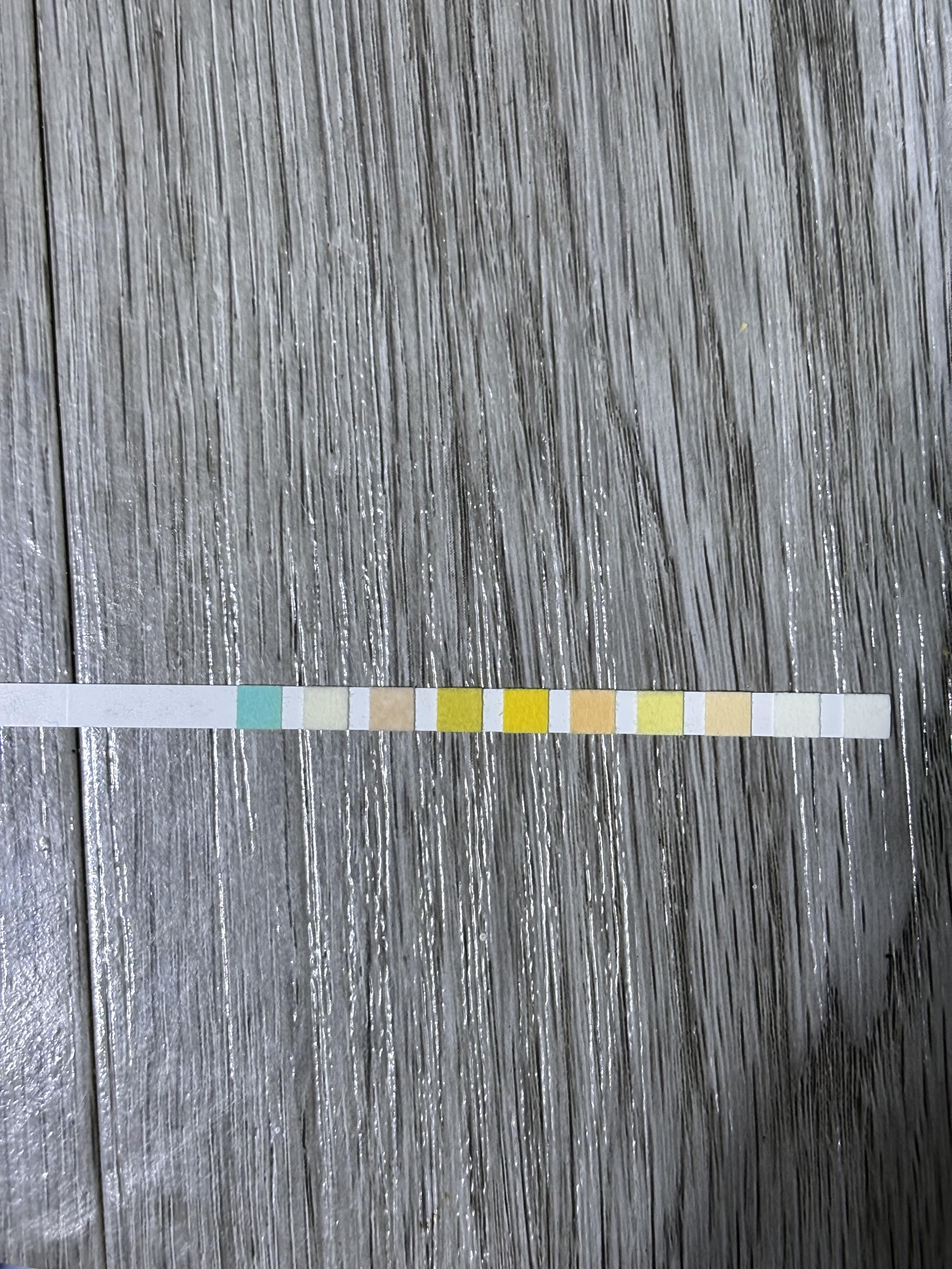Bilirubin: (305, 687, 347, 729)
Blood: (505, 689, 547, 733)
Glucose: (238, 686, 281, 729)
Ketone: (370, 688, 413, 730)
Leukocytes: (845, 695, 889, 738)
Nitrite: (775, 694, 818, 737)
Protein: (638, 691, 683, 734)
SpGravity: (438, 689, 481, 731)
Urobilinogen: (706, 692, 750, 736)
pH: (571, 690, 614, 733)
strip: (25, 683, 890, 737)
